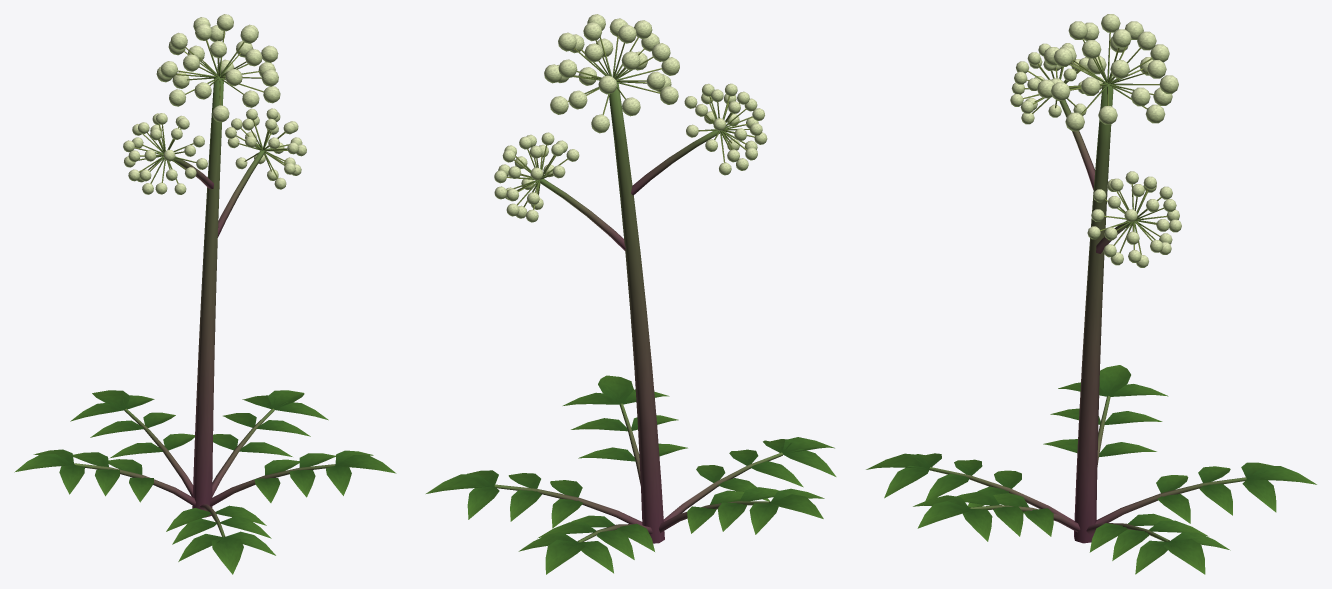
File: angelica.glb
3 renders of one model, left to right at view 1: azimuth 30°, elevation 25°; view 2: azimuth 150°, elevation 25°; view 3: azimuth 270°, elevation 25°, orthographic. The views are drawn at different scales.
Visible parts, largest first — view 1: angelica; view 2: angelica; view 3: angelica.
Part boxes in pixels (x1,y1,x2,y2): angelica: (14,14,396,574); angelica: (426,14,836,574); angelica: (866,14,1316,574).
Bounding box in the file's own units: 1.1 × 1.52 × 1.18.
1 material, 1 textured.
